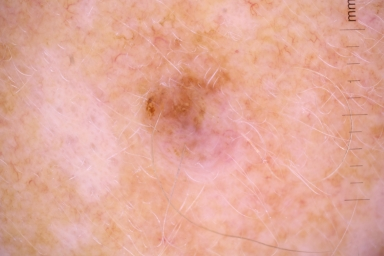nevus: (146, 65, 236, 170)
